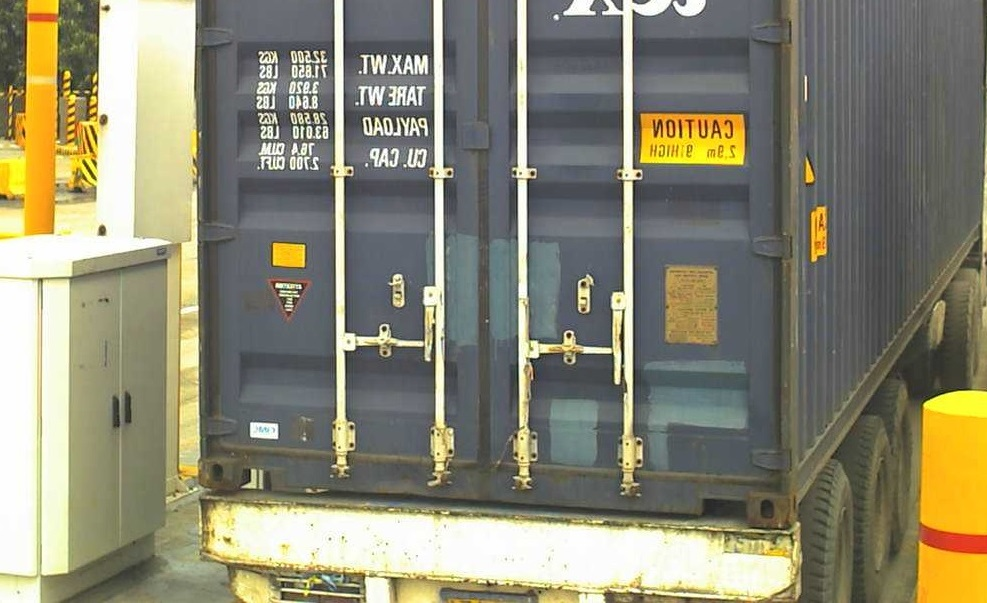container_door: (185, 1, 803, 529)
